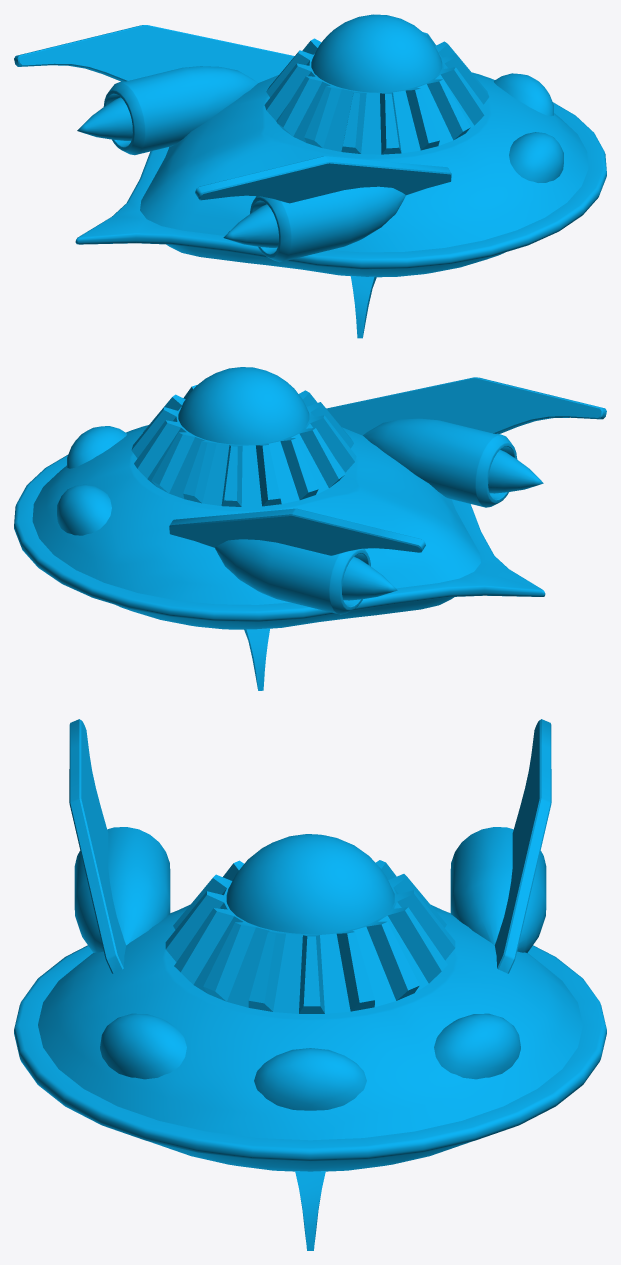
File: TwinStickUFO.FBX
3 renders of one model, top to bottom at view 1: azimuth 30°, elevation 25°; view 2: azimuth 150°, elevation 25°; view 3: azimuth 270°, elevation 25°, orthographic. The views are drawn at different scales.
Visible parts, largest first — view 1: TwinStickUFO; view 2: TwinStickUFO; view 3: TwinStickUFO.
Part boxes in pixels (left/top/right/bottom): TwinStickUFO: left=14, top=14, right=606, bottom=338; TwinStickUFO: left=14, top=367, right=606, bottom=690; TwinStickUFO: left=14, top=719, right=606, bottom=1250.
Size of what is drawn, in the model's own units: 125 by 100 by 56.54.
